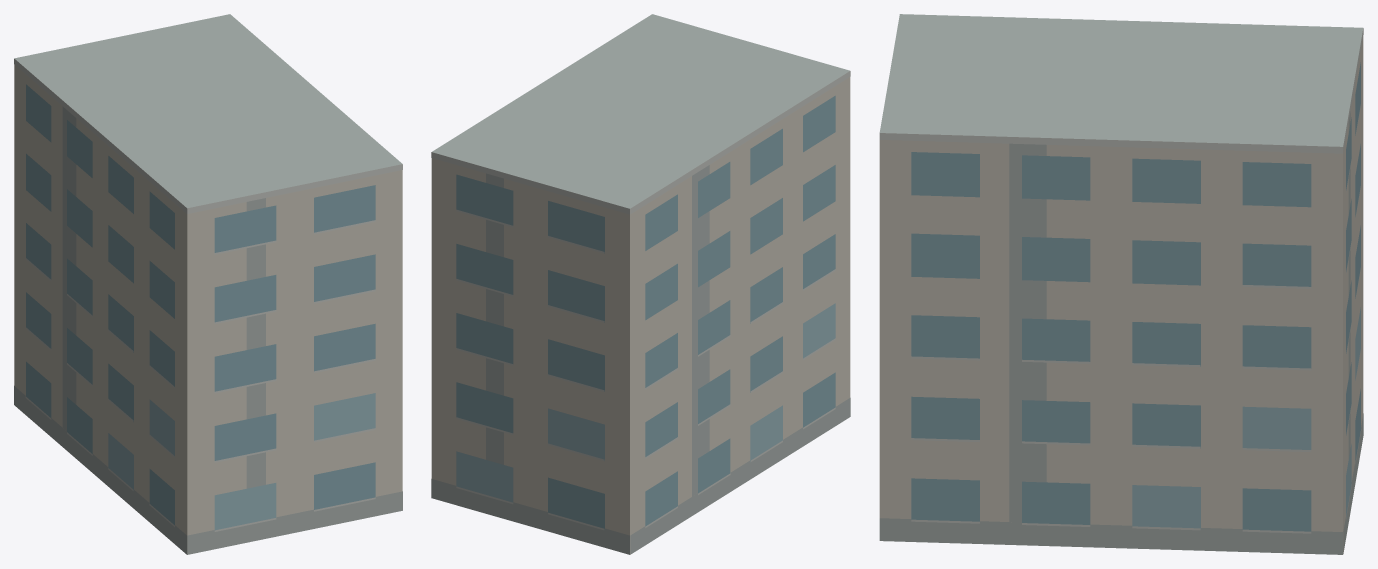
Rendered from survey-upis-32873156.glb.
The picture shows the model from 3 angles, left to right: view 1: azimuth 30°, elevation 25°; view 2: azimuth 150°, elevation 25°; view 3: azimuth 270°, elevation 25°; orthographic projection. The views are drawn at different scales.
Visible parts, largest first — view 1: survey-upis-32873156.tmp; view 2: survey-upis-32873156.tmp; view 3: survey-upis-32873156.tmp.
Part boxes in pixels (box(x1,y1,x2,y2)): survey-upis-32873156.tmp: box(14, 14, 402, 554); survey-upis-32873156.tmp: box(431, 14, 850, 554); survey-upis-32873156.tmp: box(879, 14, 1363, 554).
Size of the model in its own units: 10.14 by 14.5 by 15.59.
